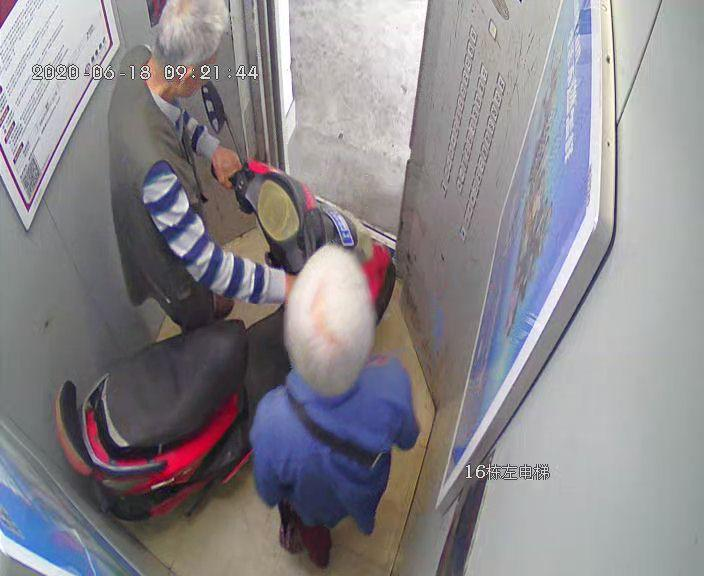Electric-bicycle: (54, 158, 396, 525)
